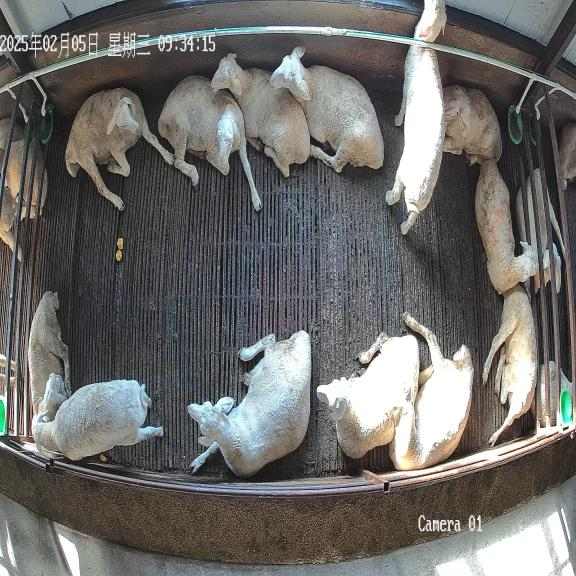lying: (188, 330, 311, 476), (270, 47, 384, 172), (158, 76, 260, 210), (389, 313, 473, 470), (65, 88, 172, 210), (317, 335, 419, 458), (211, 54, 310, 177), (482, 287, 537, 444), (475, 160, 538, 294), (28, 292, 71, 424), (443, 85, 502, 165)
stand: (386, 0, 446, 234), (33, 379, 163, 460)
